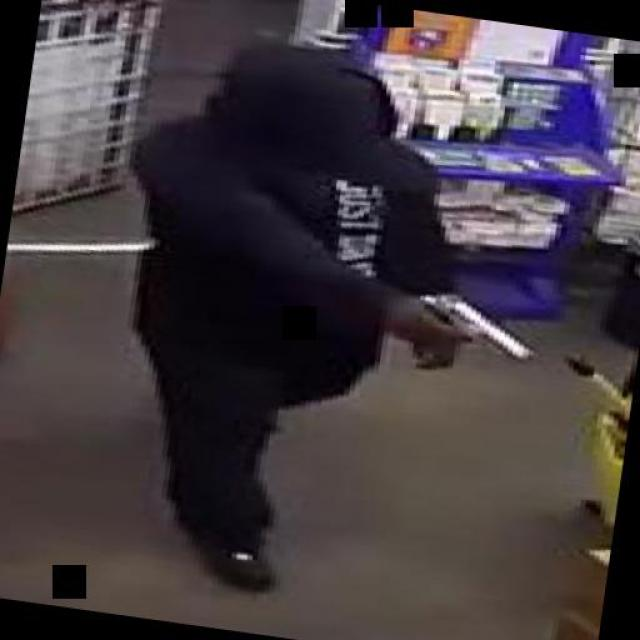gun: (389, 281, 541, 364)
